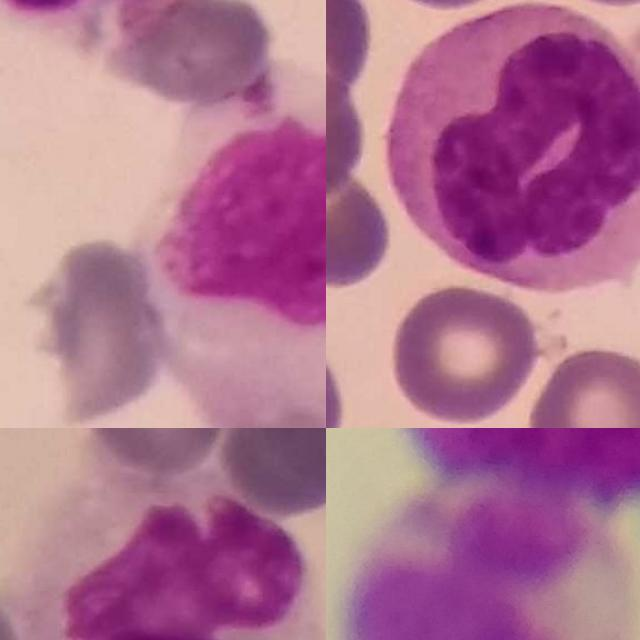Basophil: (402, 428, 640, 514)
Monocyte: (384, 0, 640, 294), (146, 80, 326, 428), (19, 469, 326, 640)
